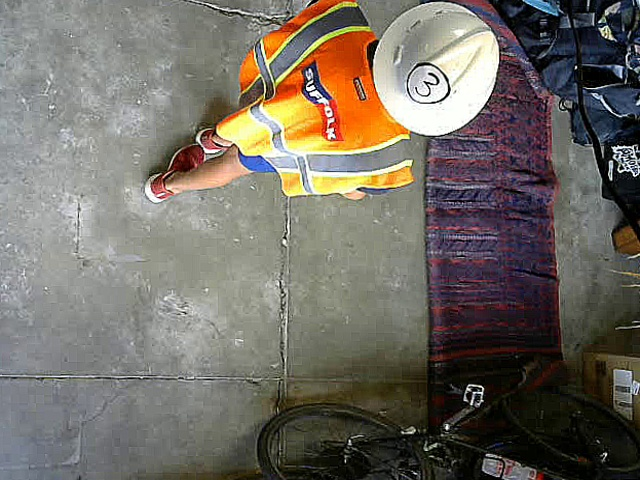three: (405, 61, 451, 104)
